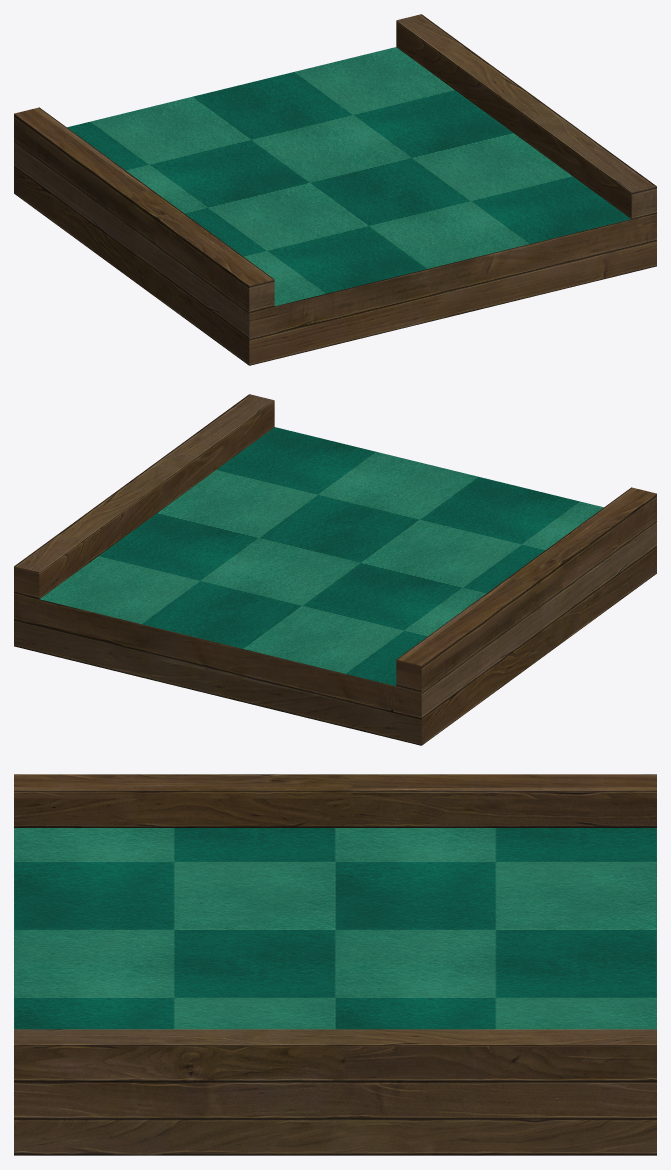
3 views of the same model, one above another, from view 1: azimuth 30°, elevation 25°; view 2: azimuth 150°, elevation 25°; view 3: azimuth 270°, elevation 25° (orthographic). The views are drawn at different scales.
Parts seen in each view (by area): view 1: Part2_glb; view 2: Part2_glb; view 3: Part2_glb.
Part boxes in pixels (x1,y1,x2,y2): Part2_glb: (14,14,656,365); Part2_glb: (14,394,656,745); Part2_glb: (14,774,656,1155).
Size of what is drawn, in the model's own units: 4 by 0.75 by 4.
2 materials, 2 textured.
